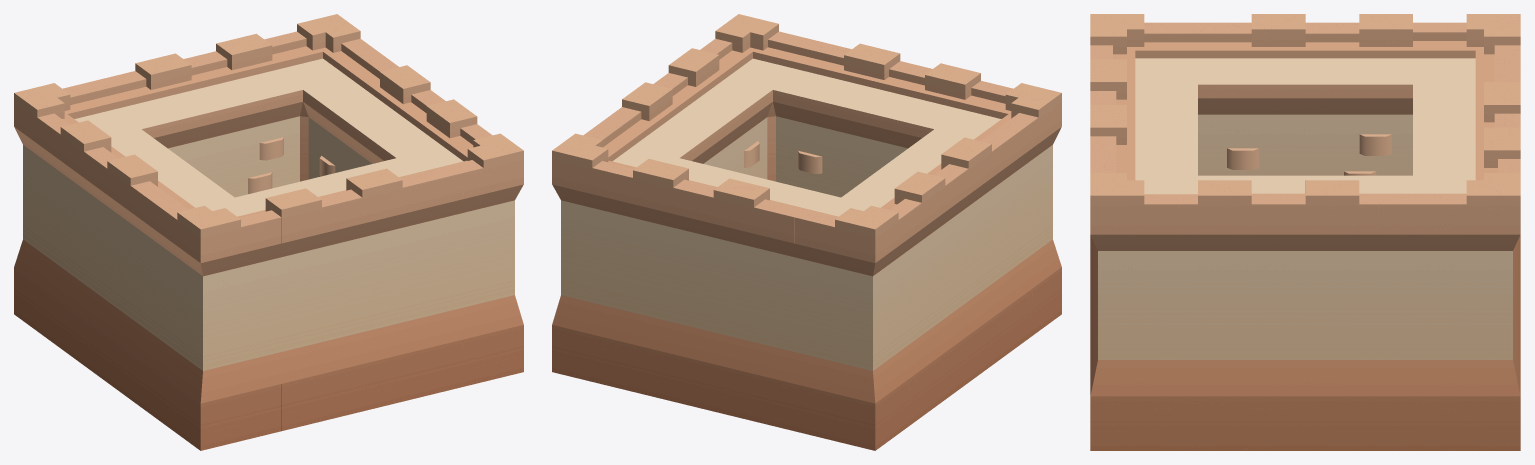
The model's file is loop_tower.glb.
3 views of the same model, side by side, from view 1: azimuth 30°, elevation 25°; view 2: azimuth 150°, elevation 25°; view 3: azimuth 270°, elevation 25° (orthographic). The views are drawn at different scales.
Parts seen in each view (by area): view 1: wall-narrow-corner; view 2: wall-narrow-corner; view 3: wall-narrow-corner.
Part boxes in pixels (x1,y1,x2,y2): wall-narrow-corner: (14,14,523,450); wall-narrow-corner: (552,14,1061,450); wall-narrow-corner: (1090,14,1520,450).
Bounding box in the file's own units: 2 × 1.31 × 2.
Materials: 2 (2 with a texture image).
